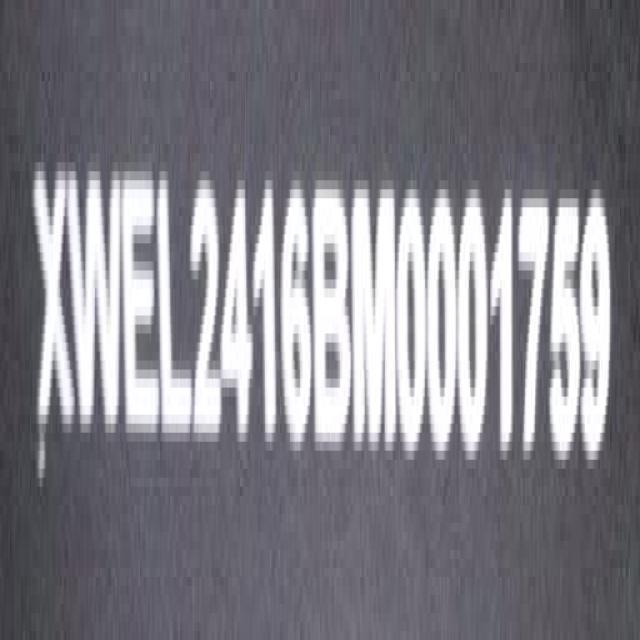0: (397, 181, 431, 462), (459, 182, 489, 466), (429, 183, 459, 462)
1: (488, 178, 516, 467), (256, 175, 280, 451)
2: (192, 170, 225, 452)
4: (220, 174, 254, 451)
5: (550, 188, 578, 467)
6: (282, 176, 316, 451)
7: (520, 183, 549, 464)
9: (582, 199, 613, 471)
B: (314, 177, 352, 453)
E: (125, 168, 161, 449)
L: (160, 169, 192, 448)
M: (352, 176, 399, 459)
W: (68, 156, 126, 445)
X: (34, 155, 72, 444)
